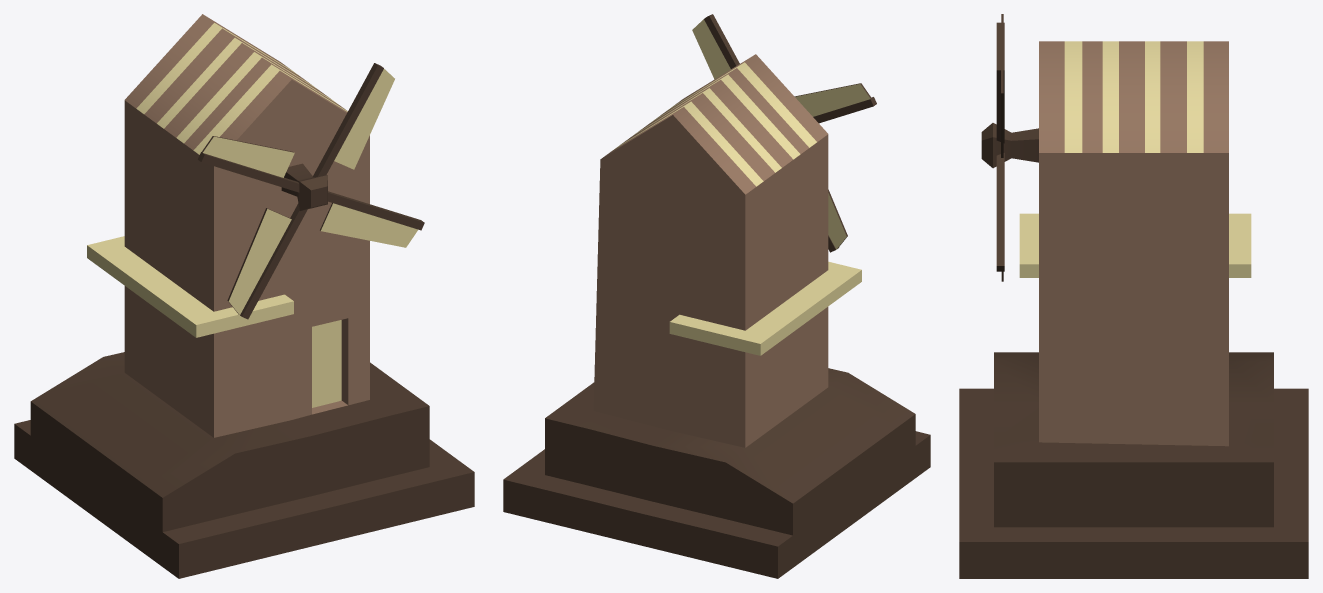
The model's file is mill.fbx.
3 renders of one model, left to right at view 1: azimuth 30°, elevation 25°; view 2: azimuth 150°, elevation 25°; view 3: azimuth 270°, elevation 25°, orthographic. The views are drawn at different scales.
Parts seen in each view (by area): view 1: pCube7, pCube10, pCube11, pCube9, pCube8; view 2: pCube7, pCube9, pCube10, pCube11; view 3: pCube7, pCube9, pCube8, pCube11, pCube10.
Part boxes in pixels (bbox=[...]): pCube7: bbox=[14, 14, 474, 578]; pCube10: bbox=[227, 63, 394, 319]; pCube11: bbox=[198, 136, 424, 247]; pCube9: bbox=[87, 236, 293, 337]; pCube8: bbox=[281, 163, 327, 210]; pCube7: bbox=[503, 54, 930, 578]; pCube9: bbox=[669, 261, 861, 355]; pCube10: bbox=[692, 14, 847, 252]; pCube11: bbox=[794, 83, 876, 123]; pCube7: bbox=[959, 41, 1308, 578]; pCube9: bbox=[1019, 213, 1251, 277]; pCube8: bbox=[981, 123, 1038, 168]; pCube11: bbox=[996, 14, 1004, 281]; pCube10: bbox=[996, 62, 1004, 157].
Bounding box in the file's own units: 71.39 × 103 × 68.77.
